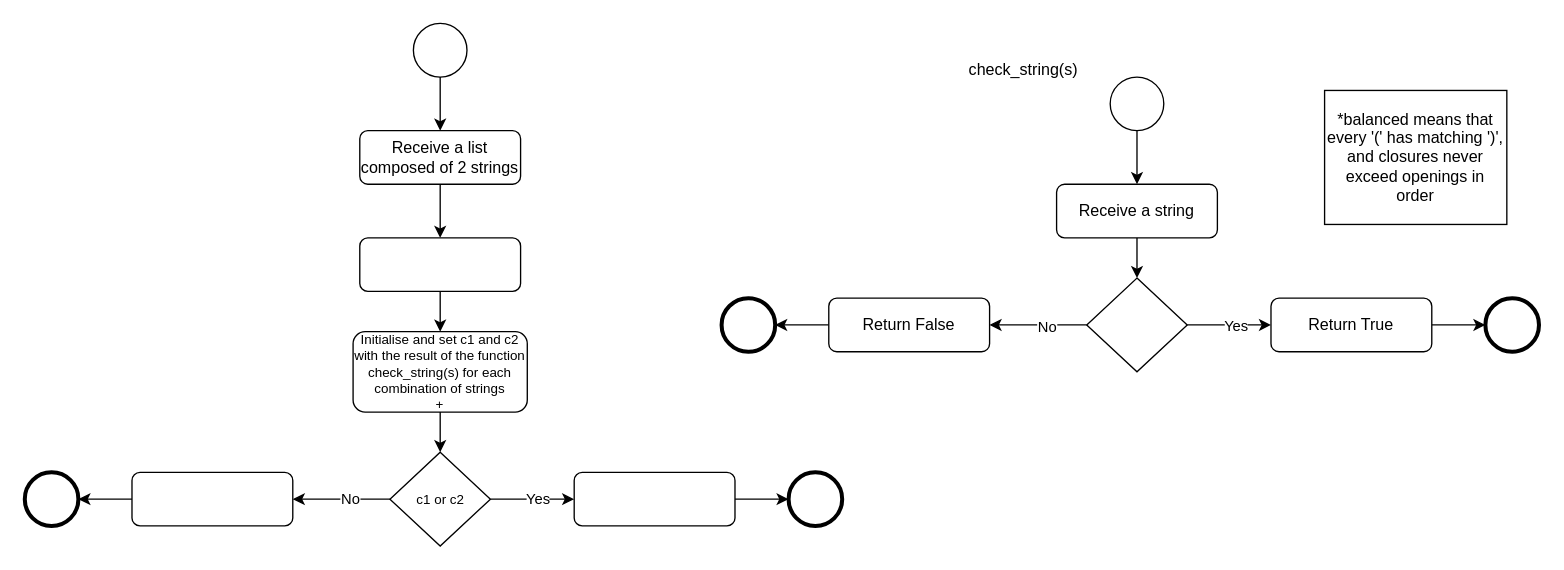
Image size: 1564x570. Some labels were removed from this diagram. The centre of each missing label's shape, as x and y in pixels:
"Concatenate the strings with both the combination" belongs at point 439,264.
"Return 'No'" belongs at point 212,498.
"Return 'Yes'" belongs at point 654,498.
"s is balanced*?" belongs at point 1136,324.
